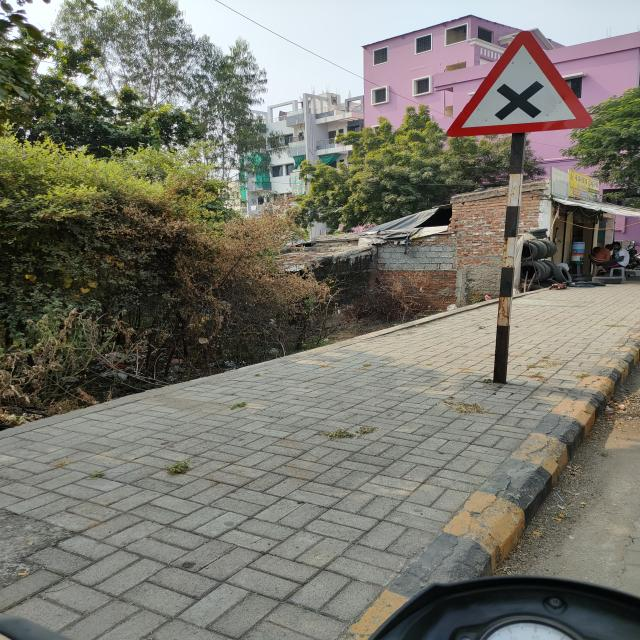cross_road: (446, 29, 596, 141)
